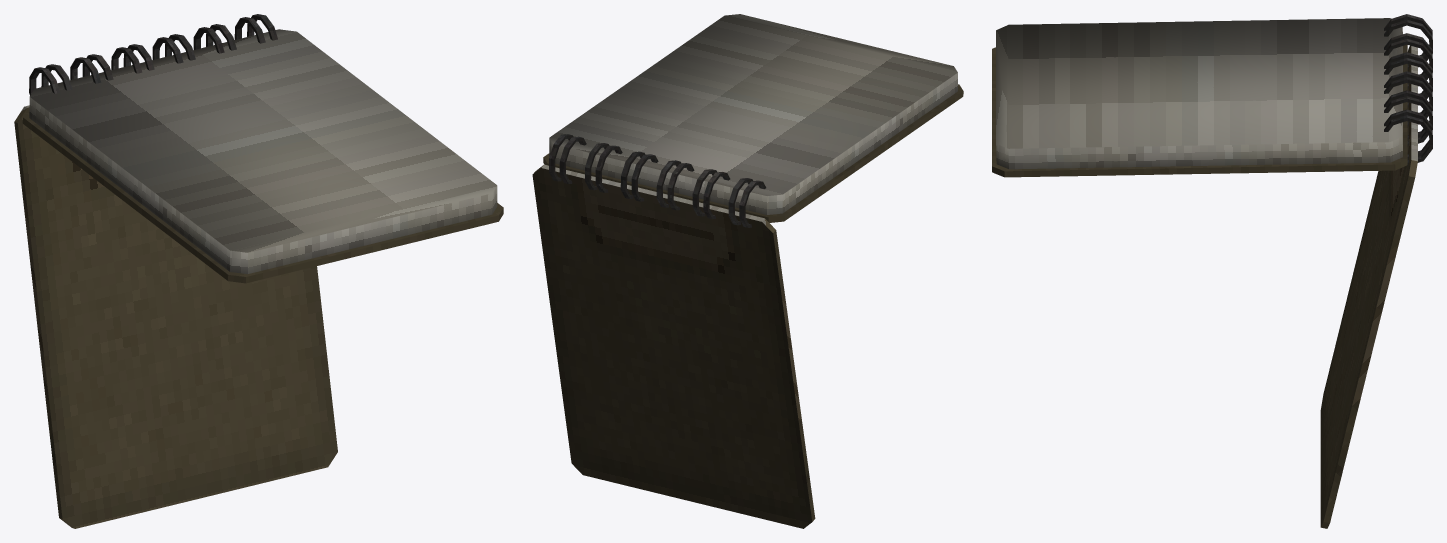
Rendered from notebook_1_open.glb.
3 renders of one model, left to right at view 1: azimuth 30°, elevation 25°; view 2: azimuth 150°, elevation 25°; view 3: azimuth 270°, elevation 25°, orthographic. The views are drawn at different scales.
Visible parts, largest first — view 1: notebook_1_cover, notebook_1_open; view 2: notebook_1_cover, notebook_1_open; view 3: notebook_1_open, notebook_1_cover.
Boxes of the visible parts, left/top/right/bottom form: notebook_1_cover: left=14, top=105, right=337, bottom=528; notebook_1_open: left=22, top=14, right=503, bottom=283; notebook_1_cover: left=532, top=164, right=815, bottom=528; notebook_1_open: left=543, top=14, right=963, bottom=227; notebook_1_open: left=992, top=14, right=1432, bottom=177; notebook_1_cover: left=1320, top=45, right=1417, bottom=528.
Size of the model in its own units: 0.1485 by 0.2168 by 0.2147.
2 materials, 2 textured.
